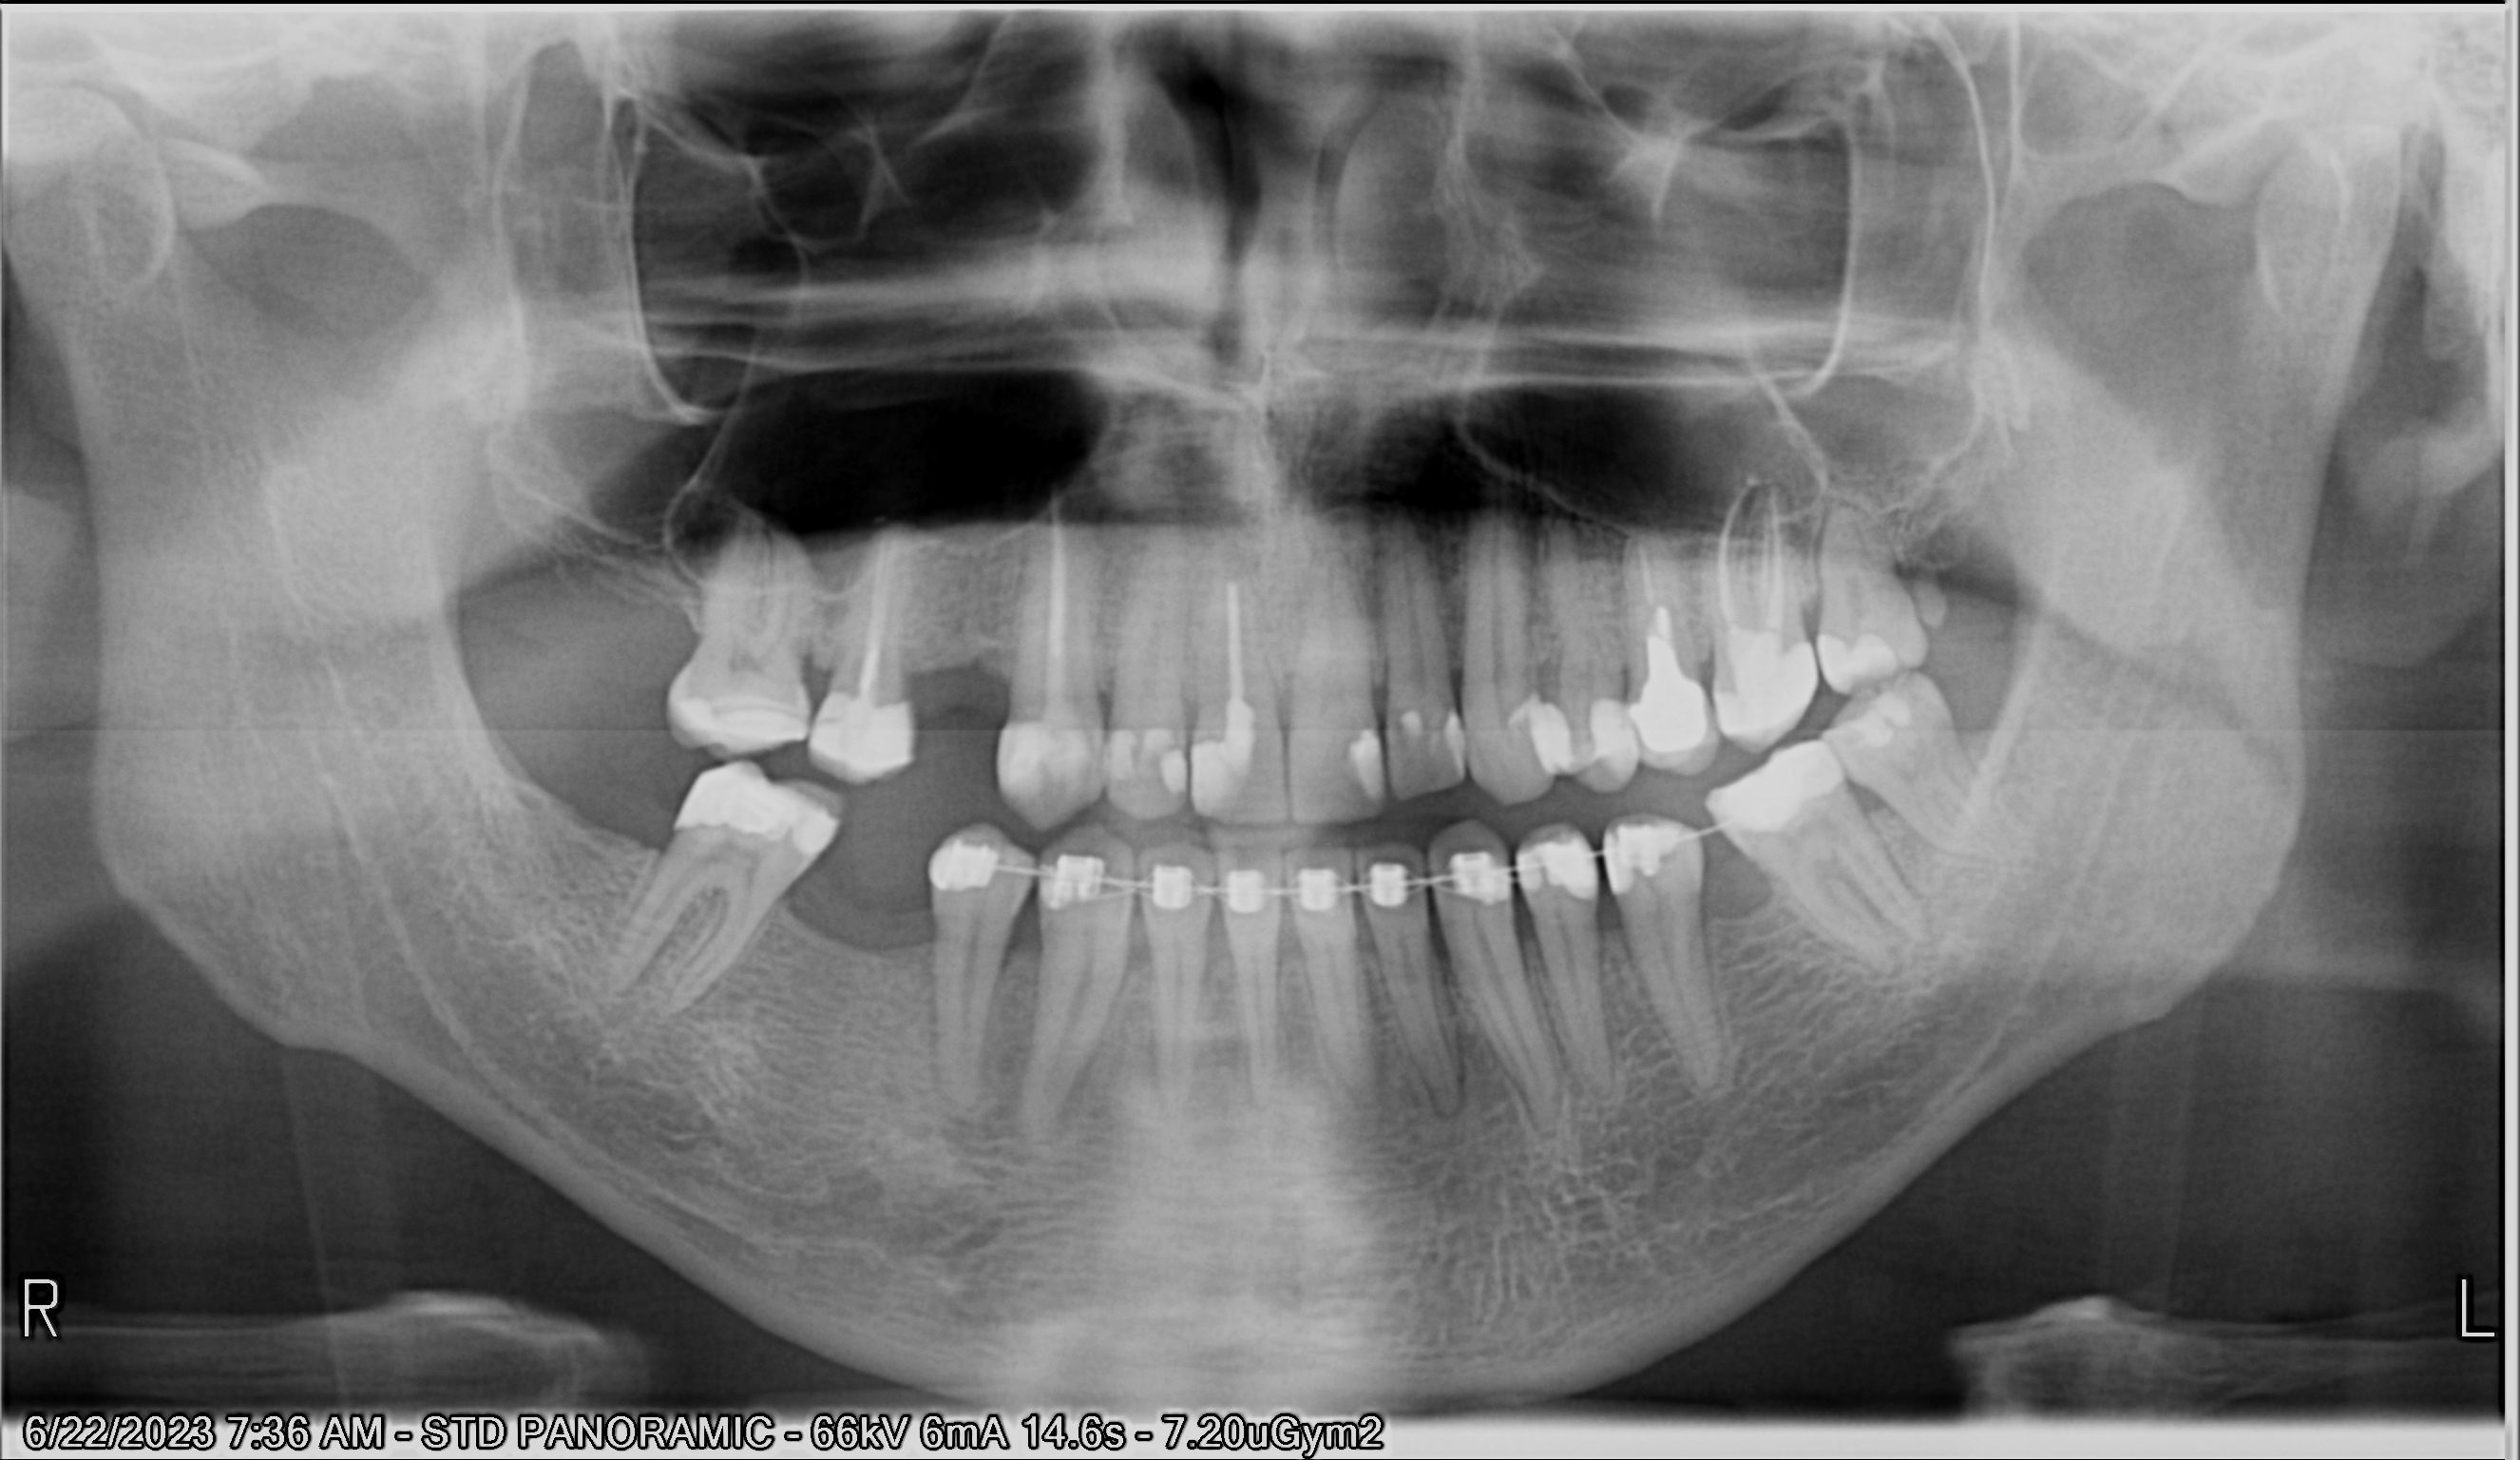APS: (1186, 534, 1287, 617)
END: (811, 549, 934, 713), (1612, 499, 1700, 692), (1712, 468, 1792, 664), (1023, 499, 1098, 704), (1212, 572, 1273, 772)
OBT: (667, 775, 860, 881), (771, 714, 985, 801), (630, 683, 801, 763), (1183, 683, 1257, 831), (1831, 706, 1985, 772), (1504, 671, 1582, 793), (1002, 735, 1103, 817), (1099, 718, 1190, 801), (1570, 683, 1641, 786), (1428, 693, 1487, 801), (1810, 629, 1897, 693), (1325, 713, 1370, 826)
ORD: (915, 806, 1780, 961)
